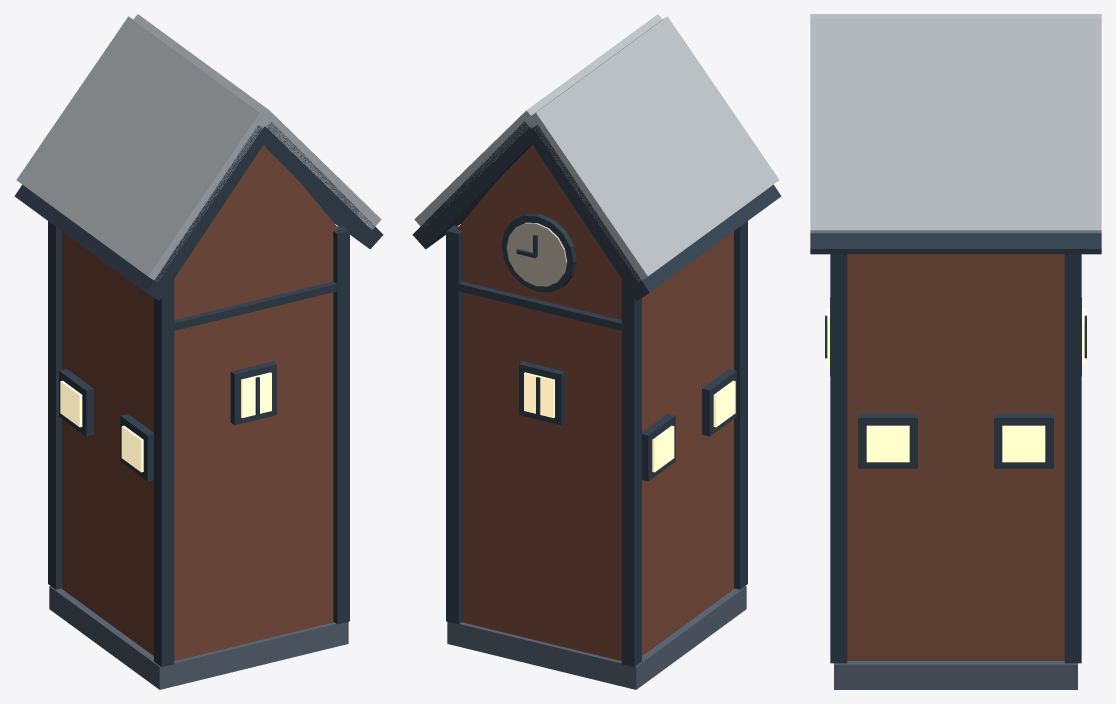
The model's file is clock-tower.glb.
3 views of the same model, side by side, from view 1: azimuth 30°, elevation 25°; view 2: azimuth 150°, elevation 25°; view 3: azimuth 270°, elevation 25° (orthographic). The views are drawn at different scales.
Visible parts, largest first — view 1: clock-tower; view 2: clock-tower; view 3: clock-tower.
Boxes of the visible parts, bbox=[...] form: clock-tower: bbox=[14, 14, 383, 689]; clock-tower: bbox=[412, 14, 781, 689]; clock-tower: bbox=[810, 14, 1101, 689].
Size of the model in its own units: 3.03 by 6.87 by 2.91.
